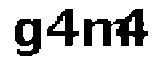4: (44, 5, 81, 49), (115, 8, 150, 52)
g: (11, 15, 43, 57)
m: (81, 15, 128, 52)
